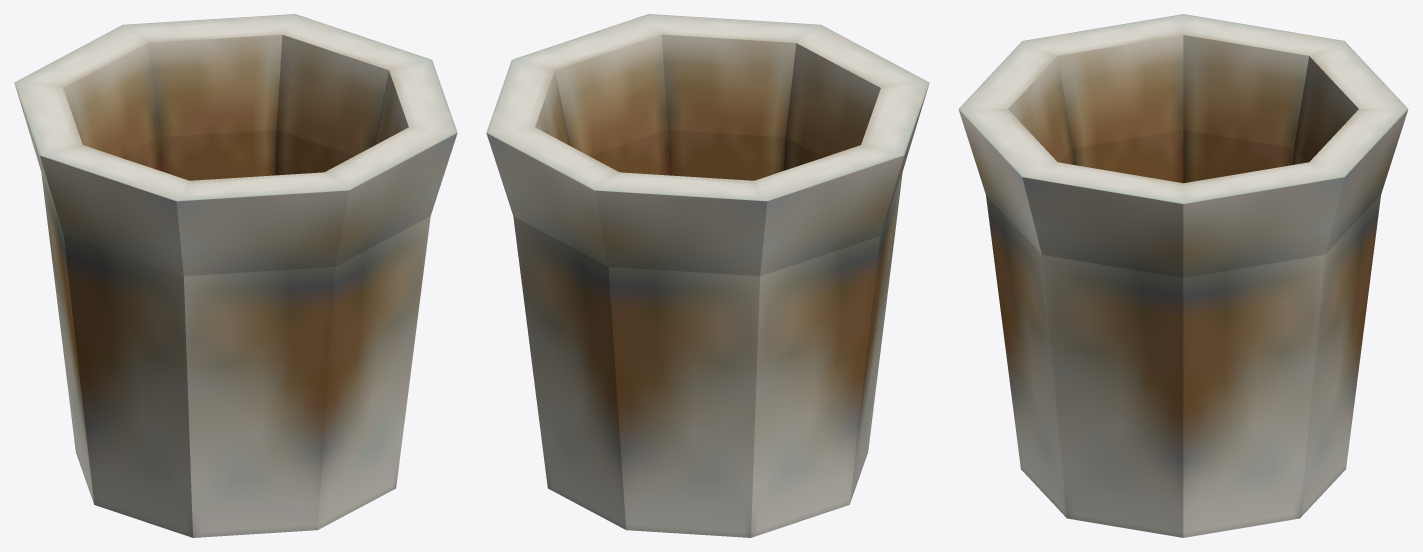
Rendered from Poly_Bucket_03_Snow.obj.
3 renders of one model, left to right at view 1: azimuth 30°, elevation 25°; view 2: azimuth 150°, elevation 25°; view 3: azimuth 270°, elevation 25°, orthographic.
Parts seen in each view (by area): view 1: Plane; view 2: Plane; view 3: Plane.
Part boxes in pixels (box(x1,y1,x2,y2)): Plane: box(14, 14, 457, 537); Plane: box(486, 14, 929, 537); Plane: box(958, 14, 1408, 537).
Bounding box in the file's own units: 0.5655 × 0.4995 × 0.5655.
1 material, 1 textured.
